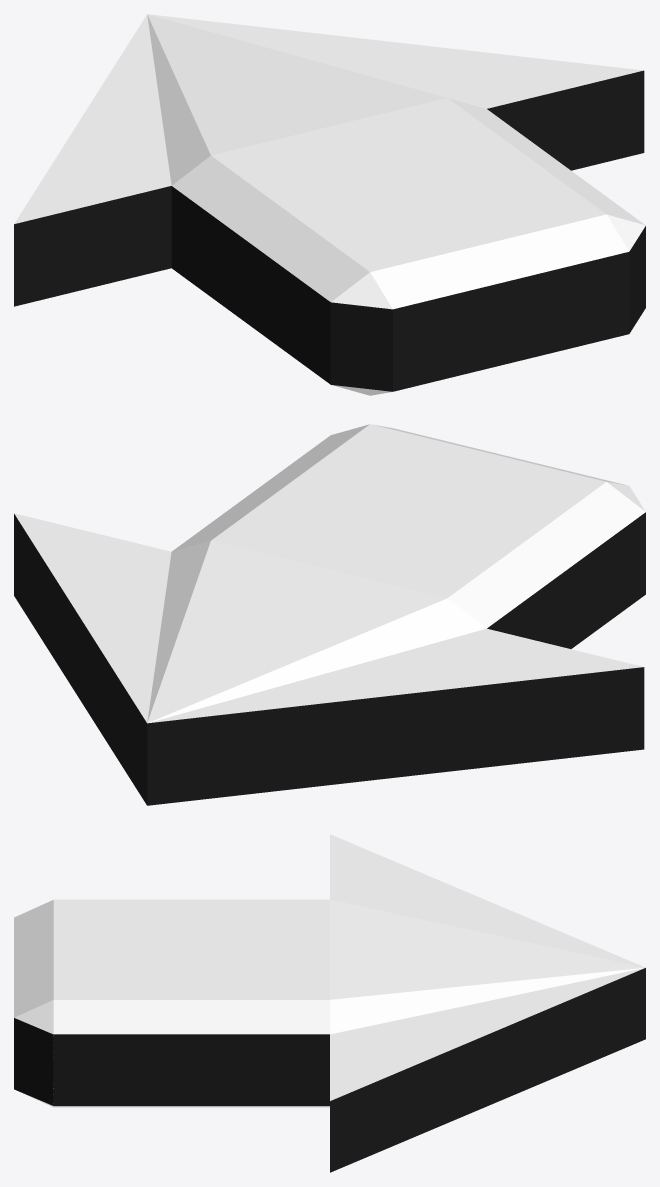
File: arrow.gltf
3 renders of one model, top to bottom at view 1: azimuth 30°, elevation 25°; view 2: azimuth 150°, elevation 25°; view 3: azimuth 270°, elevation 25°, orthographic. The views are drawn at different scales.
Parts seen in each view (by area): view 1: cuboid; view 2: cuboid; view 3: cuboid.
Boxes of the visible parts, x1,y1,x2,y2 form: cuboid: (14,14,645,395); cuboid: (14,424,645,805); cuboid: (14,834,645,1172).
Bounding box in the file's own units: 1 × 0.1875 × 1.
Materials: 1 (1 with a texture image).
